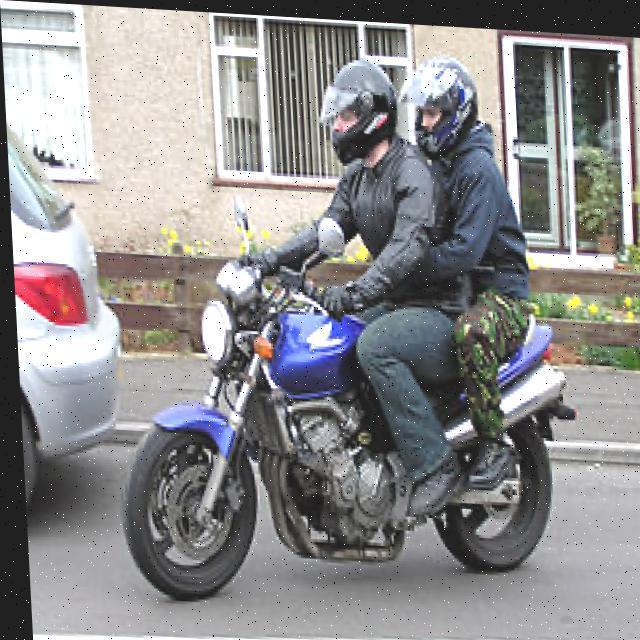Helmet: (312, 36, 410, 165), (408, 38, 485, 148)
